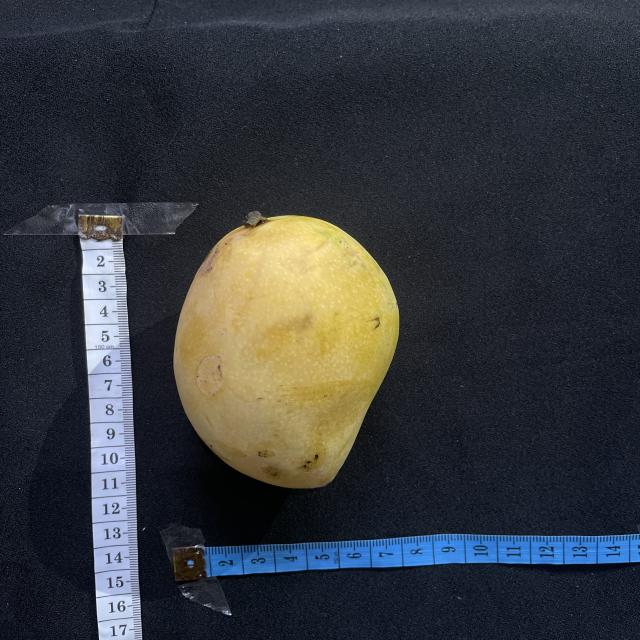Ripe: (174, 216, 399, 488)
